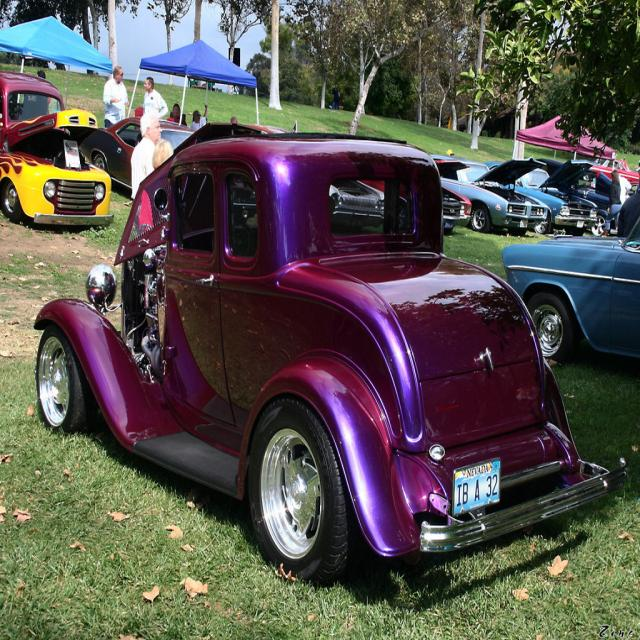car: (11, 138, 580, 582)
